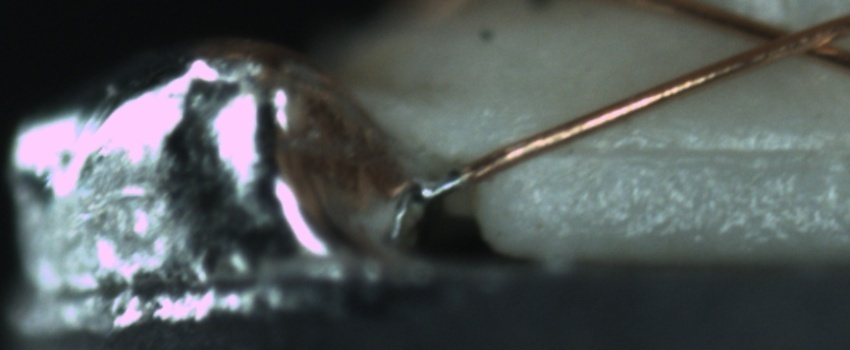CL: (742, 10, 839, 66)
DL: (538, 118, 847, 185)
TS: (417, 167, 470, 201)
